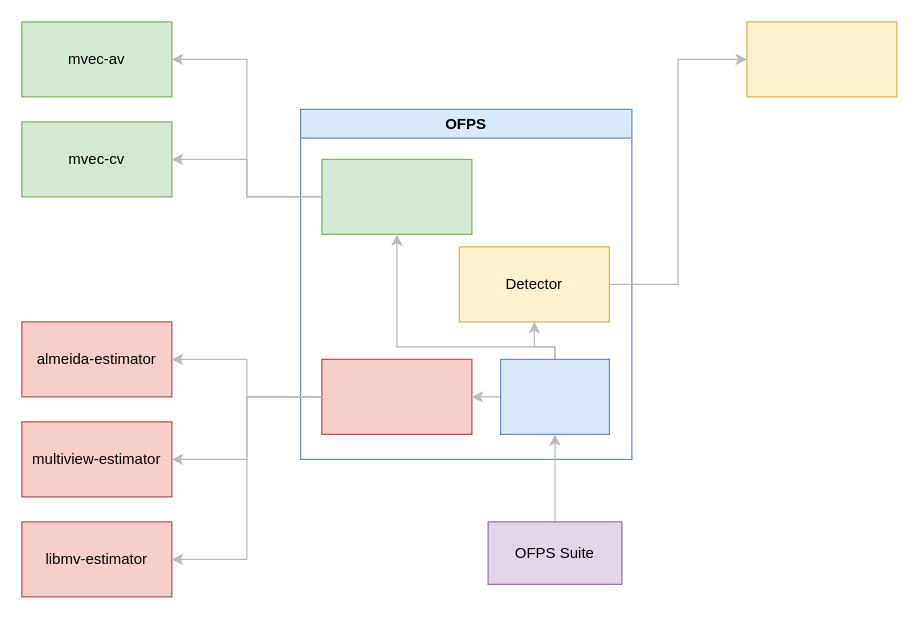
This 919x619 diagram has some shape labels left out. The shapes that lost their labels are listed below. From the top down, each one's centre as x and y in pixels, then its label:
At (x=821, y=59): "block-motion-detector".
At (x=396, y=196): "Decoder".
At (x=396, y=396): "Estimator".
At (x=554, y=396): "PluginStore".
